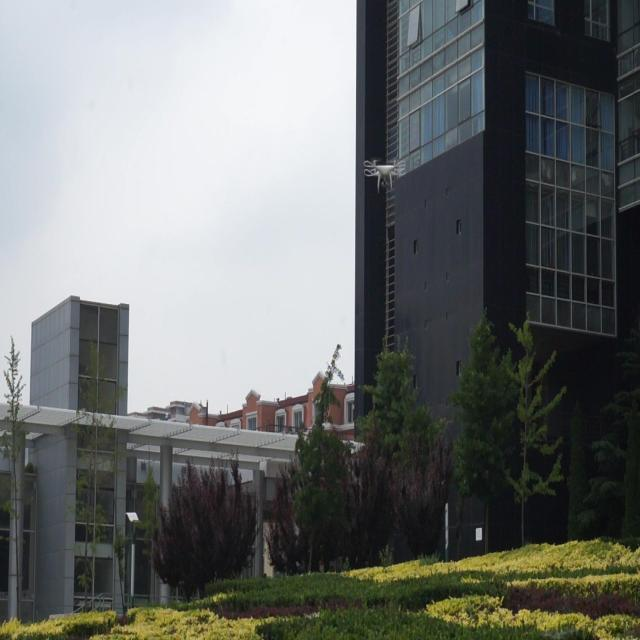drone: (362, 153, 407, 193)
